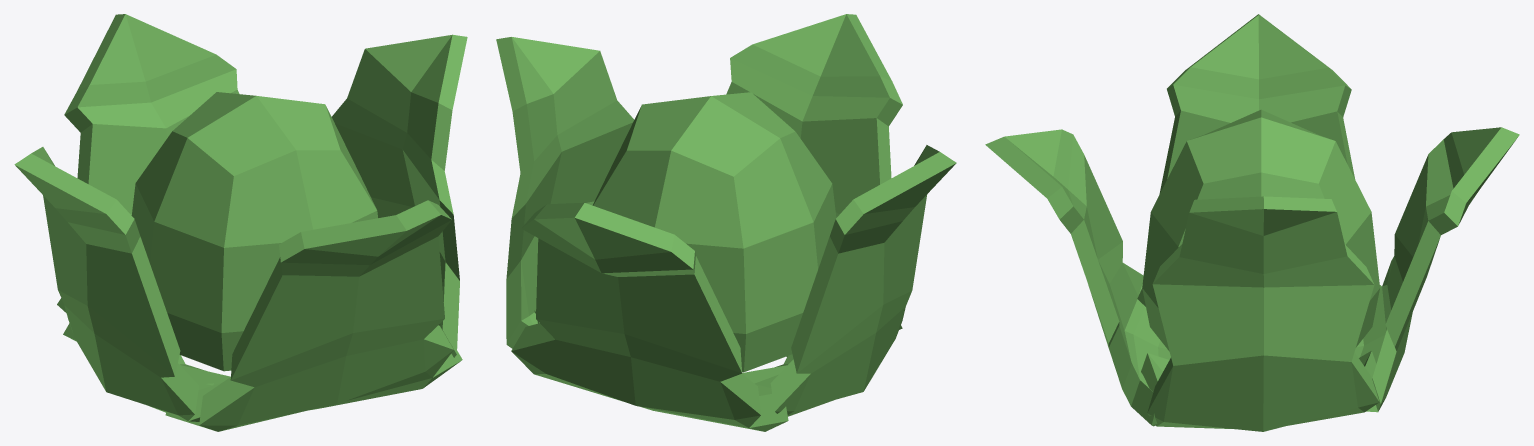
Rendered from Lettuce_3-optimized.glb.
3 views of the same model, side by side, from view 1: azimuth 30°, elevation 25°; view 2: azimuth 150°, elevation 25°; view 3: azimuth 270°, elevation 25° (orthographic). The views are drawn at different scales.
Visible parts, largest first — view 1: Lettuce_3; view 2: Lettuce_3; view 3: Lettuce_3.
Part boxes in pixels (x1,y1,x2,y2): Lettuce_3: (14, 14, 467, 431); Lettuce_3: (496, 14, 956, 431); Lettuce_3: (985, 14, 1519, 431).
Bounding box in the file's own units: 0.6232 × 0.3816 × 0.6764.
